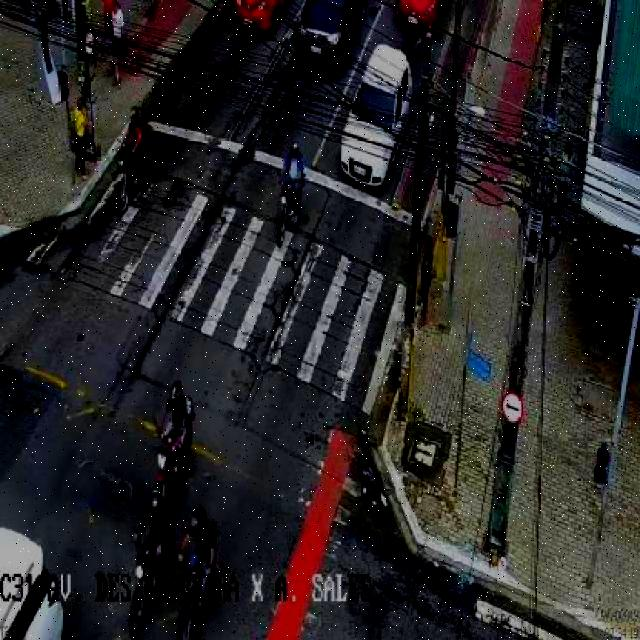Car: (340, 44, 416, 196)
Cycle: (125, 489, 177, 632), (114, 96, 156, 223), (186, 495, 227, 624), (273, 125, 309, 248), (155, 379, 194, 483)
